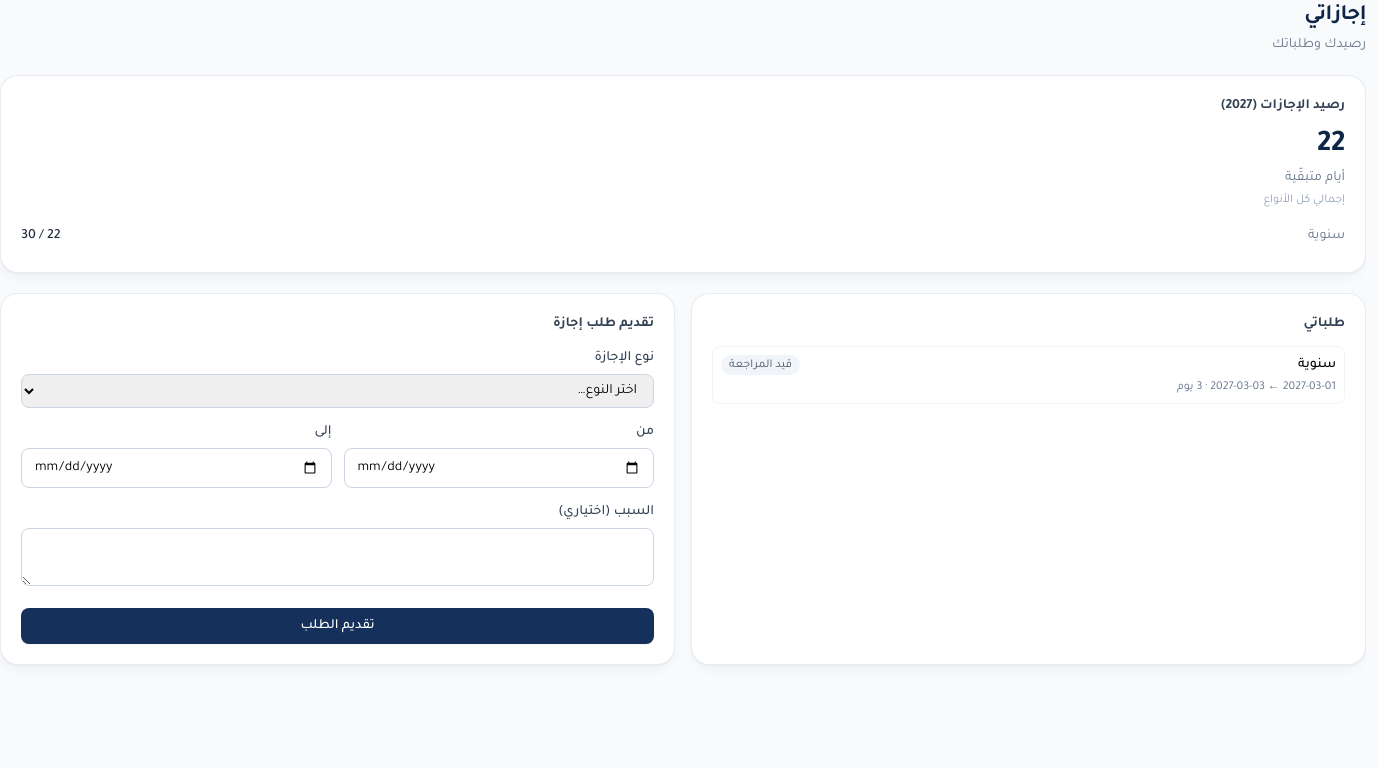
it: LeavePage › يقدّم طلباً بنجاح
Select "سنوية" in the dropdown labelled "نوع الإجازة". click: point(338, 391)
box: [21, 374, 654, 408]
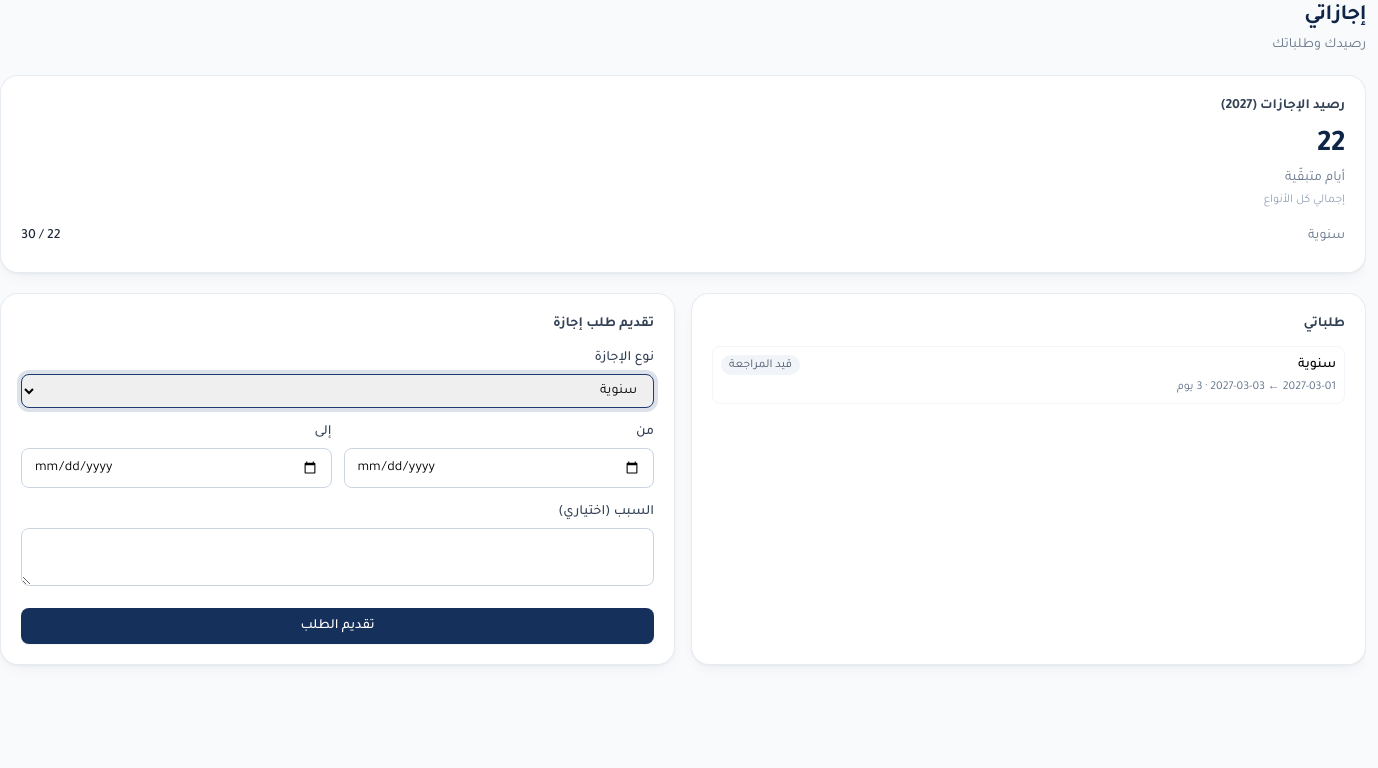
Type "2027-03-01" into the date field labelled "من". click: point(499, 468)
box: [344, 448, 654, 488]
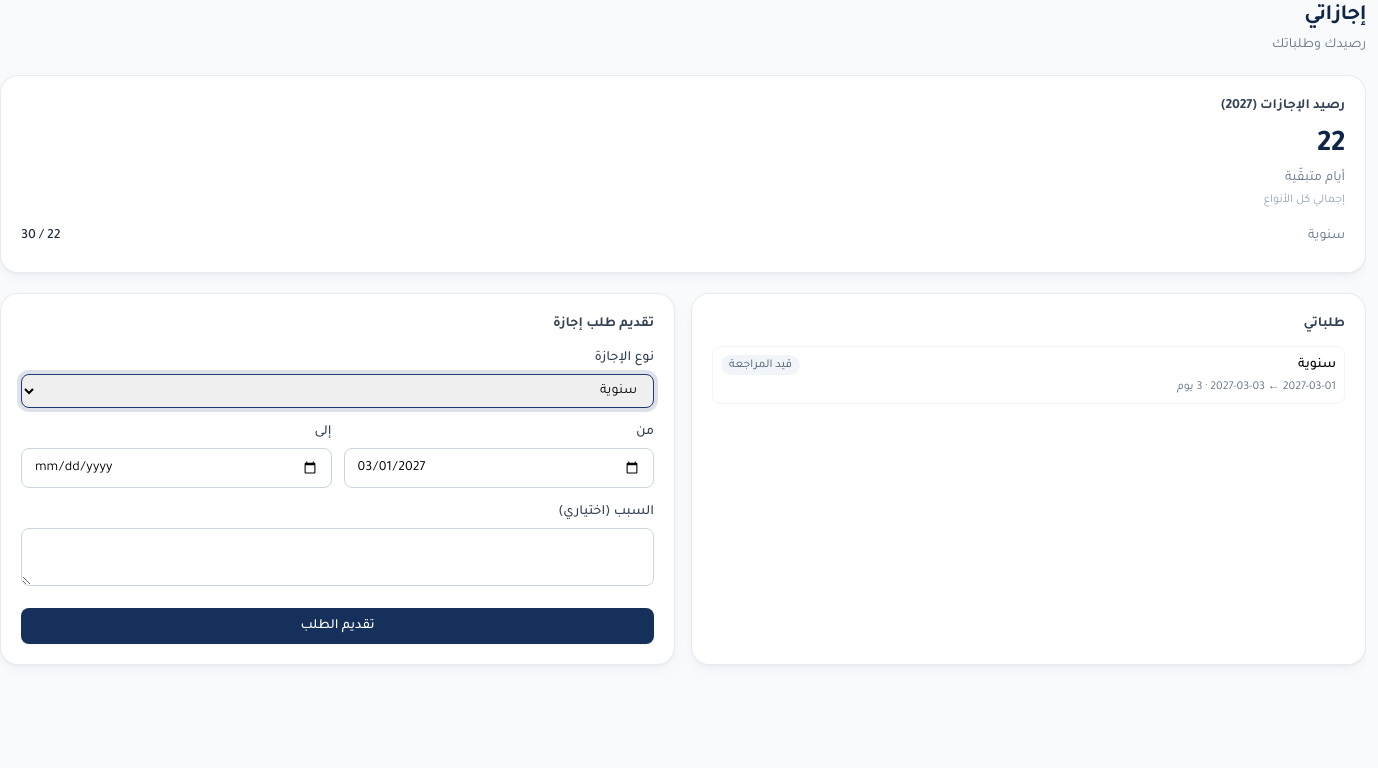
Type "2027-03-03" into the date field labelled "إلى". click: point(176, 468)
box: [21, 448, 332, 488]
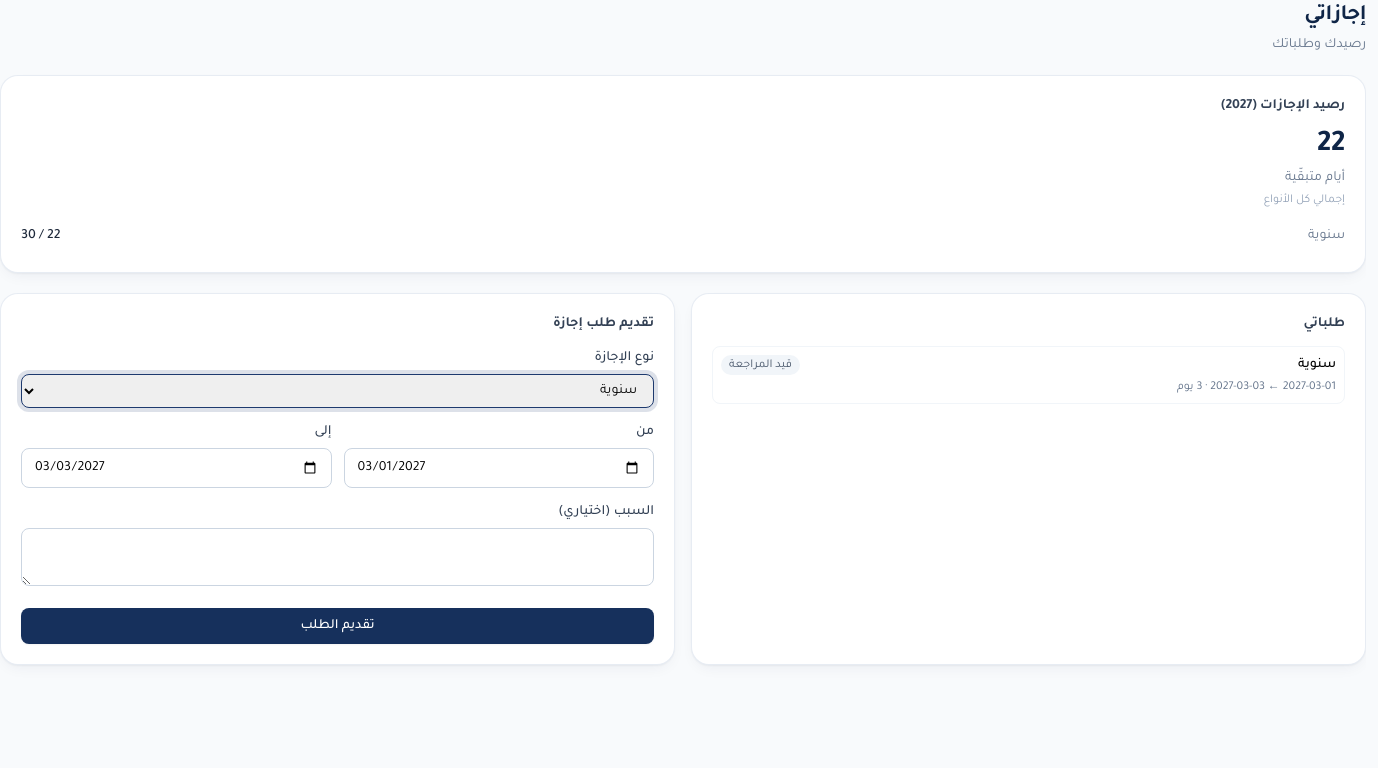
Click the button "تقديم الطلب". click: point(338, 626)
box: [21, 608, 654, 644]
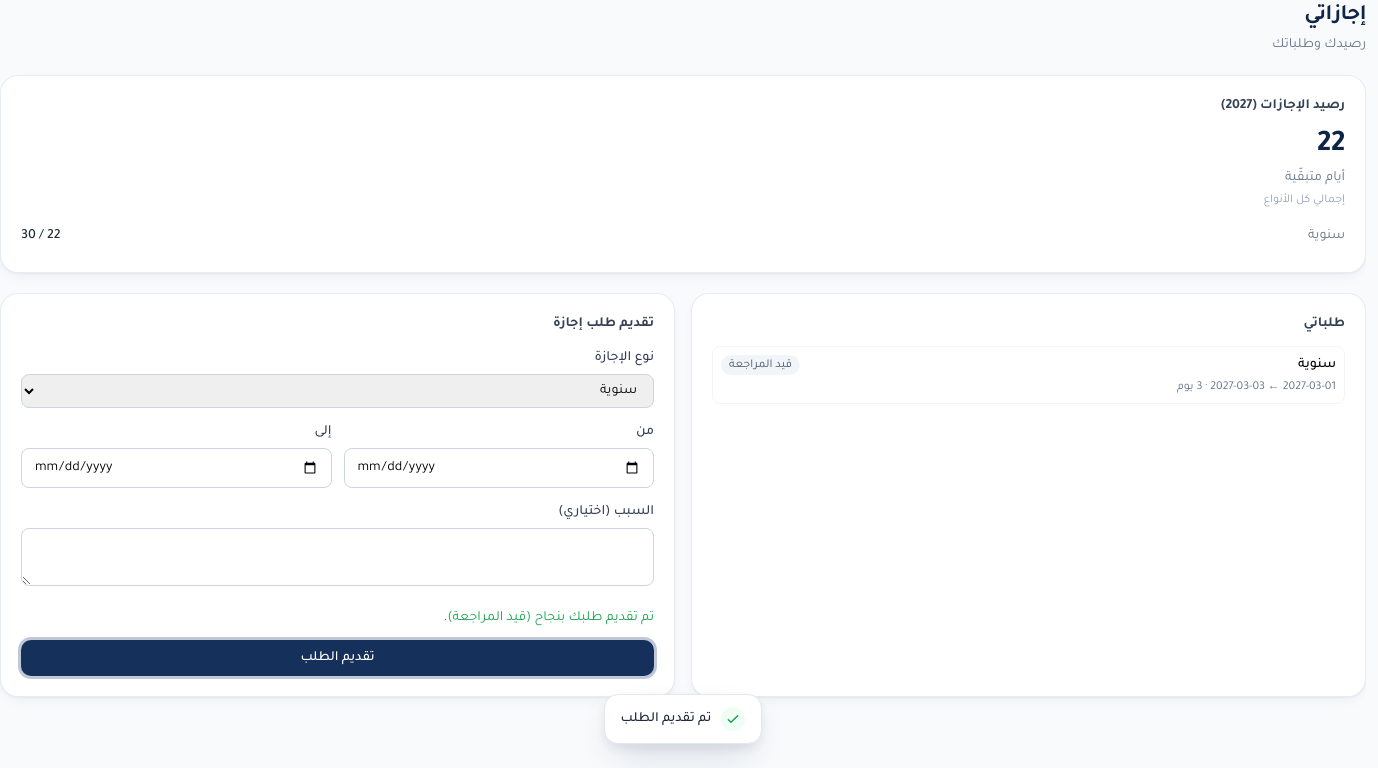
Now the text "تم تقديم طلبك بنجاح (قيد المراجعة)." is shown, box [444, 611, 654, 625]
